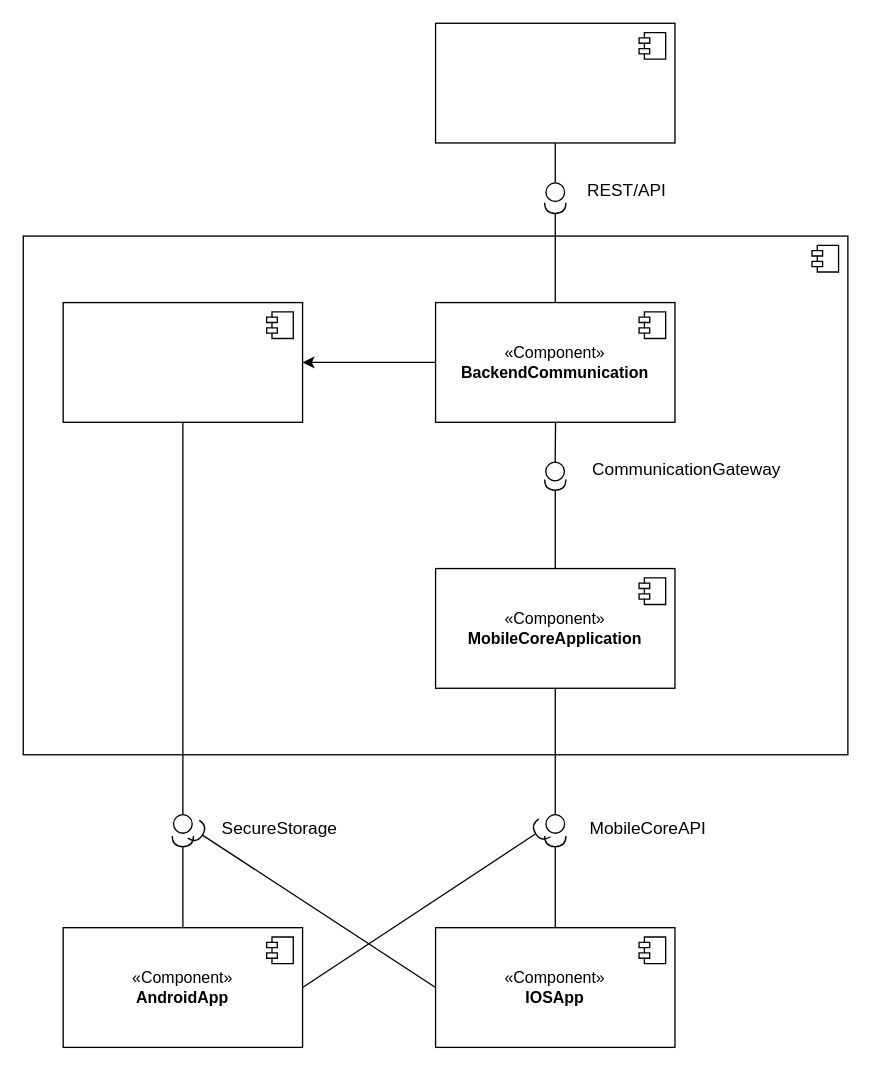
Some shapes in this 871 by 1071 pixel diagram are drawn without their labels. Each missing label, with the centre of its shape:
"«Component» Backend" belongs at point (554, 82).
"«Component» TokenManager" belongs at point (182, 361).
